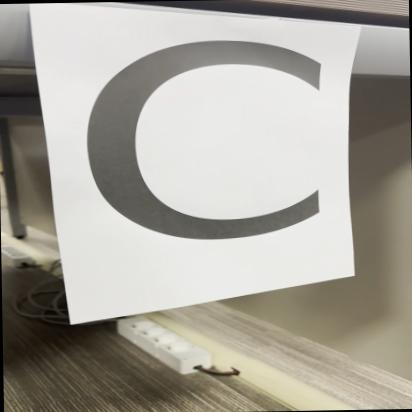seat: (43, 14, 349, 283)
